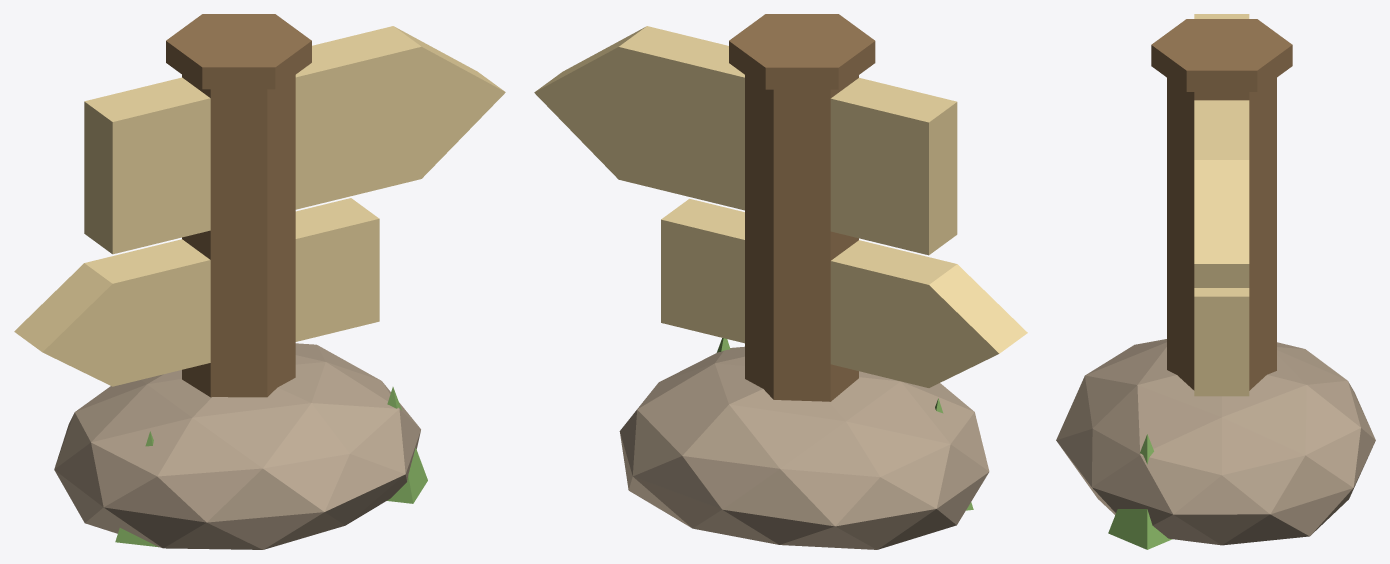
Rendered from meadow-landmark-s1.glb.
3 renders of one model, left to right at view 1: azimuth 30°, elevation 25°; view 2: azimuth 150°, elevation 25°; view 3: azimuth 270°, elevation 25°, orthographic. The views are drawn at different scales.
Visible parts, largest first — view 1: meadow-landmark-s1; view 2: meadow-landmark-s1; view 3: meadow-landmark-s1.
Part boxes in pixels (<box>): meadow-landmark-s1: <box>14,14,505,549</box>; meadow-landmark-s1: <box>534,14,1027,549</box>; meadow-landmark-s1: <box>1056,14,1375,549</box>.
Bounding box in the file's own units: 0.66 × 0.61 × 0.4075.
